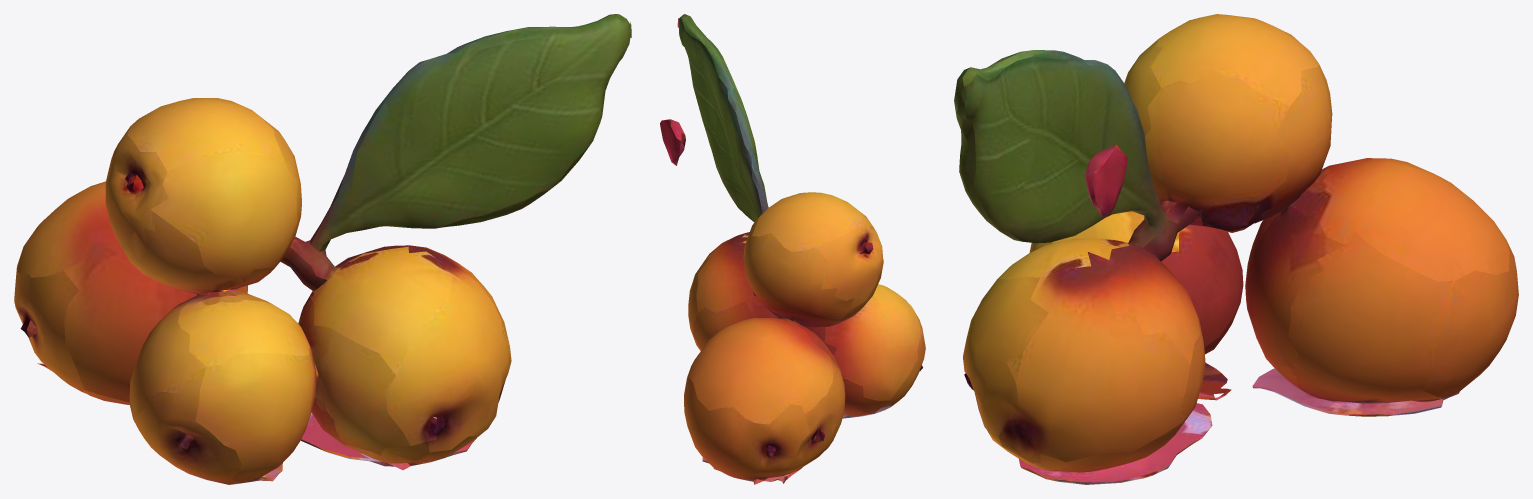
The model's file is loquat.glb.
3 renders of one model, left to right at view 1: azimuth 30°, elevation 25°; view 2: azimuth 150°, elevation 25°; view 3: azimuth 270°, elevation 25°, orthographic. The views are drawn at different scales.
Parts seen in each view (by area): view 1: item_loquat; view 2: item_loquat; view 3: item_loquat.
Boxes of the visible parts, bbox=[...] form: item_loquat: bbox=[14, 14, 631, 484]; item_loquat: bbox=[660, 14, 925, 484]; item_loquat: bbox=[954, 14, 1518, 484].
Size of the model in its own units: 0.9294 by 0.913 by 1.
1 material, 1 textured.
